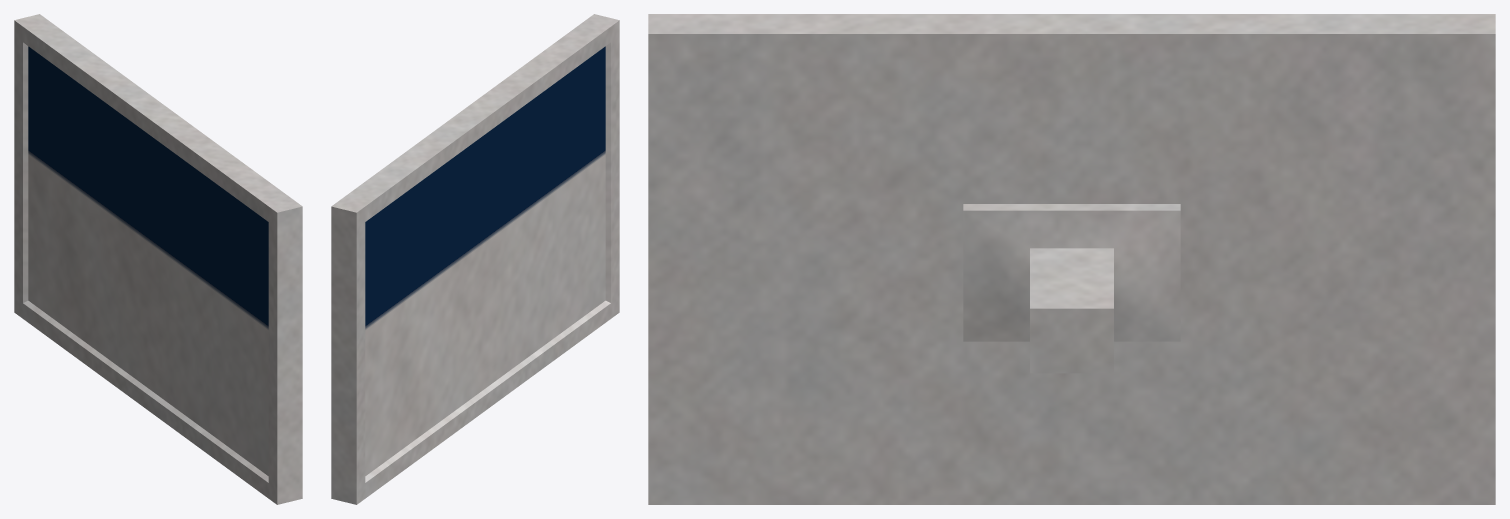
File: monitor.fbx
3 renders of one model, left to right at view 1: azimuth 30°, elevation 25°; view 2: azimuth 150°, elevation 25°; view 3: azimuth 270°, elevation 25°, orthographic. The views are drawn at different scales.
Parts seen in each view (by area): view 1: monitor; view 2: monitor; view 3: monitor.
Part boxes in pixels (x1,y1,x2,y2): monitor: (14, 14, 302, 504); monitor: (331, 14, 619, 504); monitor: (648, 14, 1495, 504).
Size of the model in its own units: 31.84 by 76.48 by 125.
